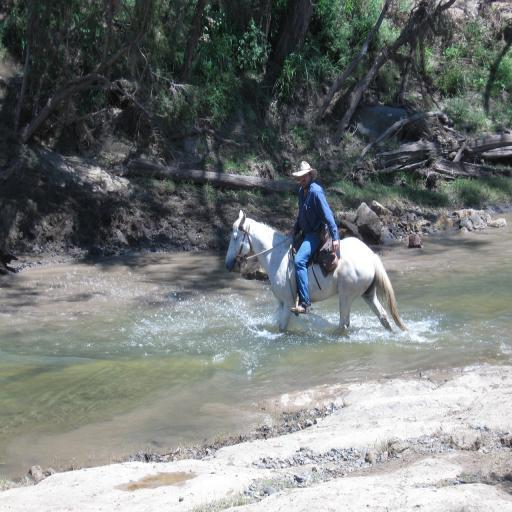horse: (226, 211, 406, 337)
